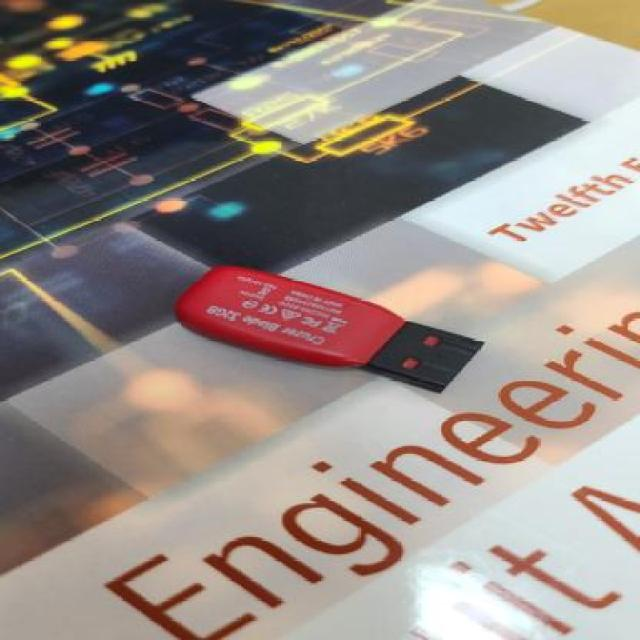Flashdisk: (166, 262, 489, 396)
